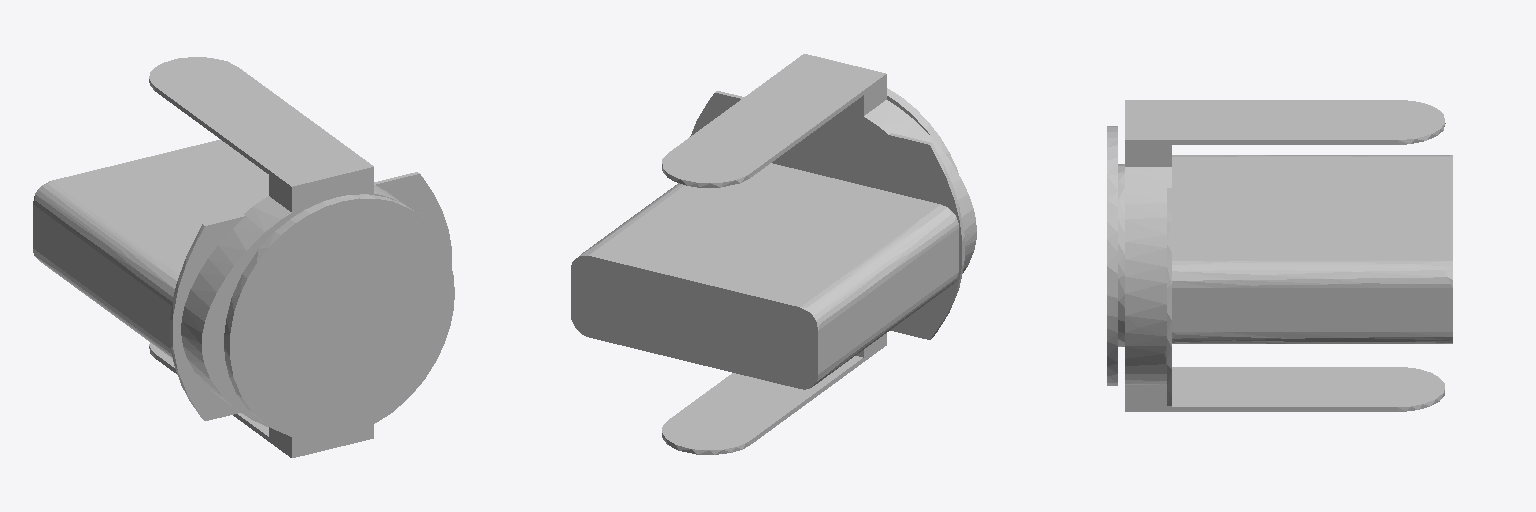
Rendered from caster.obj.
3 views of the same model, side by side, from view 1: azimuth 30°, elevation 25°; view 2: azimuth 150°, elevation 25°; view 3: azimuth 270°, elevation 25° (orthographic).
Bounding box in the file's own units: 0.1868 × 0.173 × 0.1995.